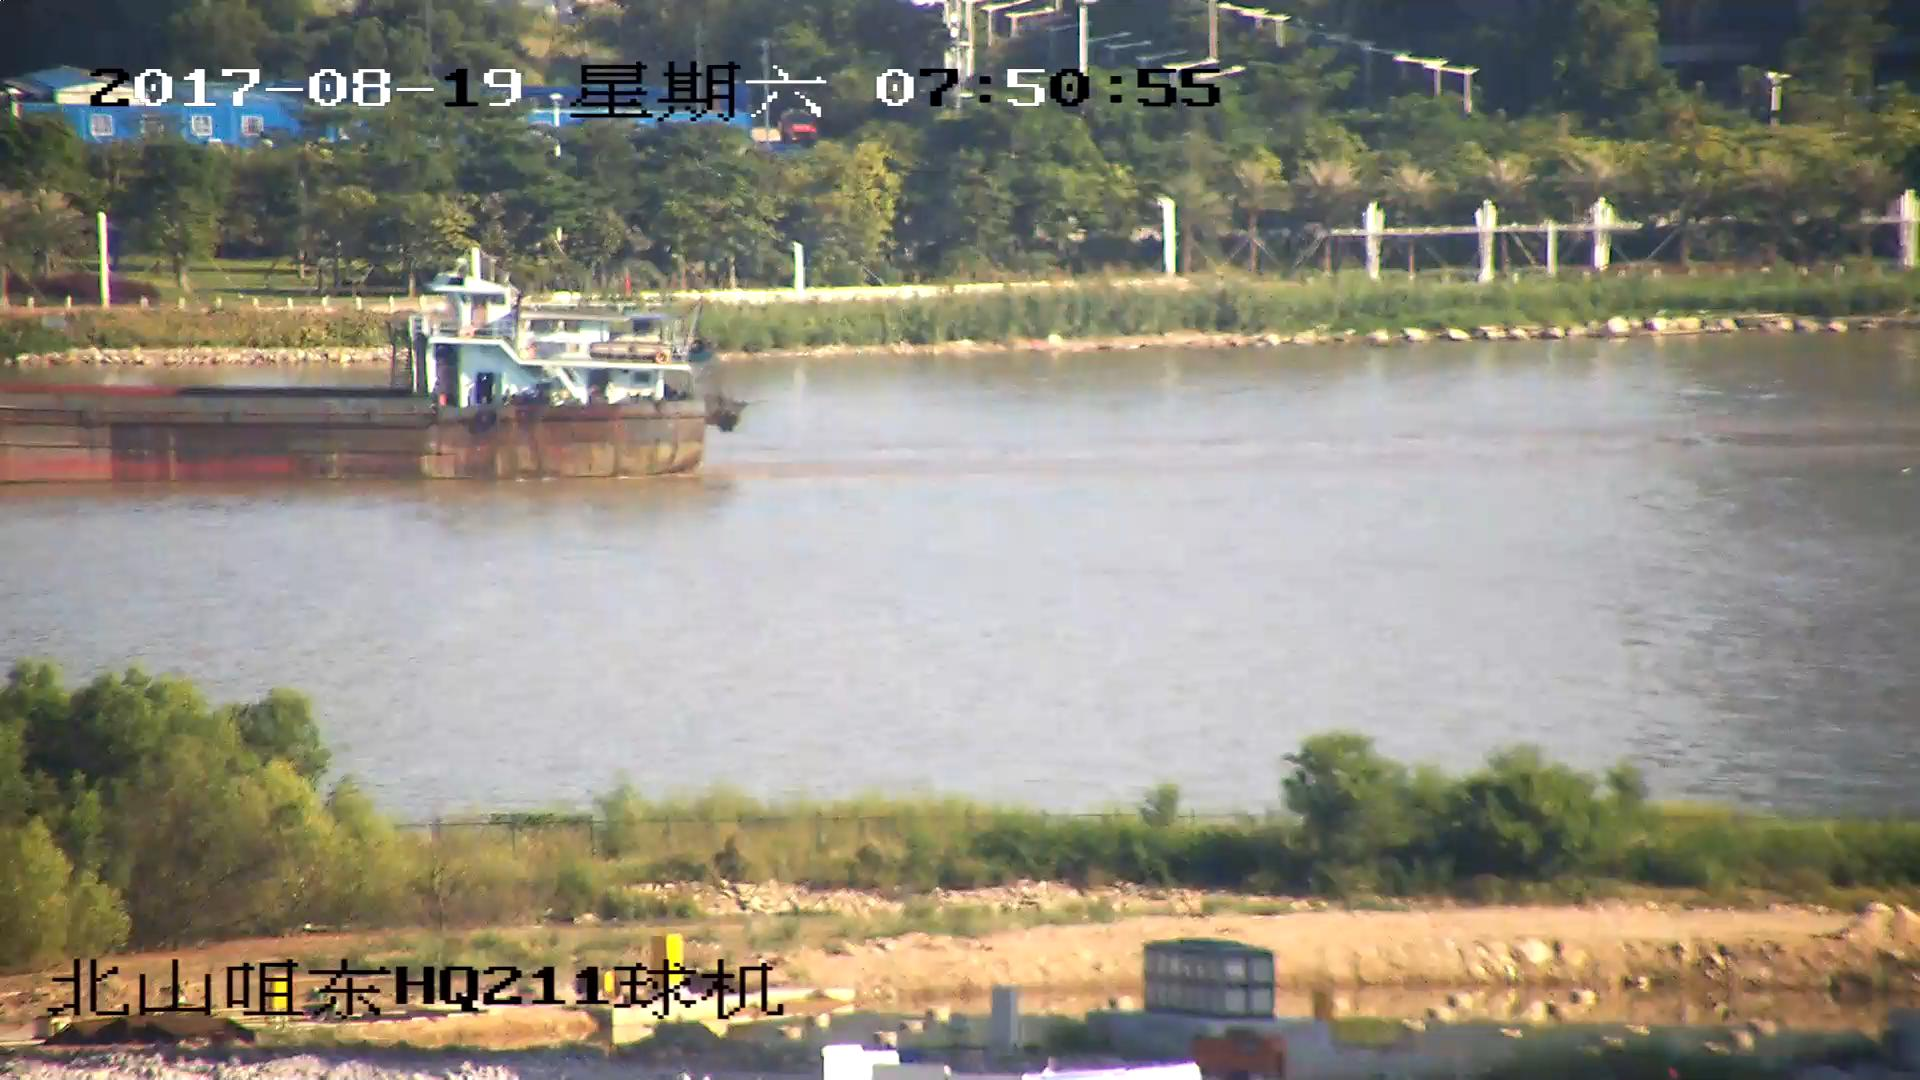bulk cargo carrier: (1, 272, 744, 486)
